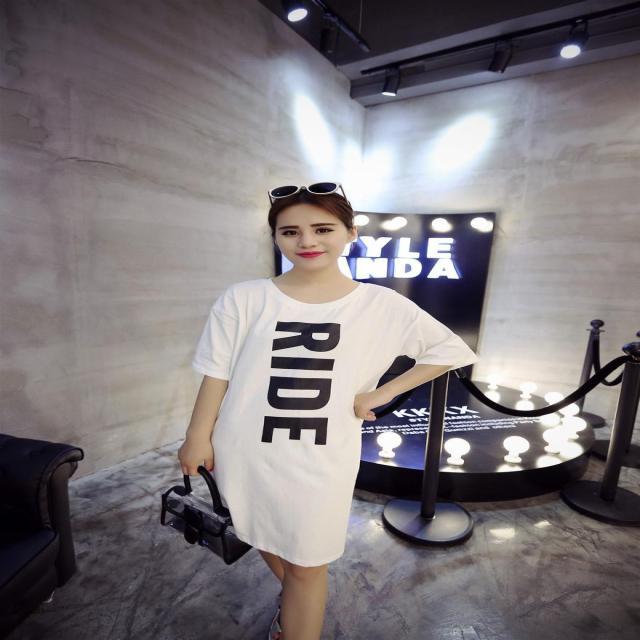short-sleeve-dress: (210, 279, 460, 568)
